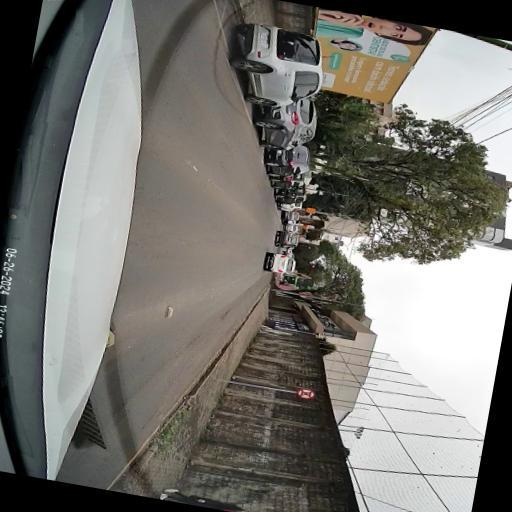R-6c: (296, 386, 314, 400)
